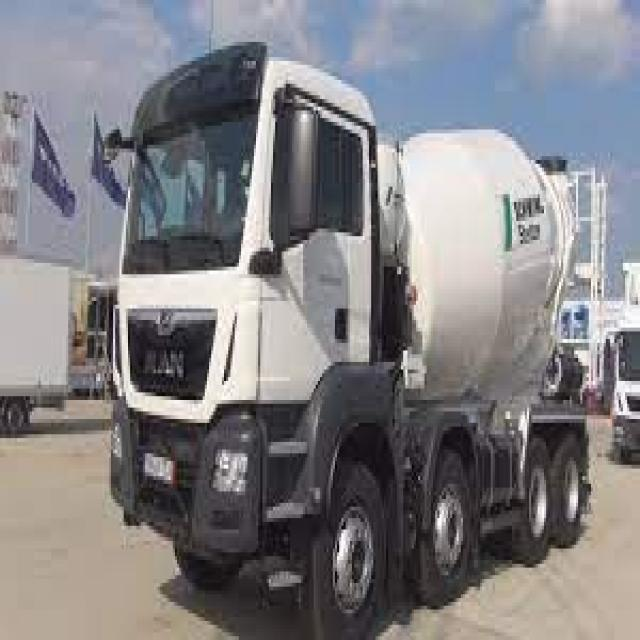Mixer Truck: (104, 36, 608, 640)
